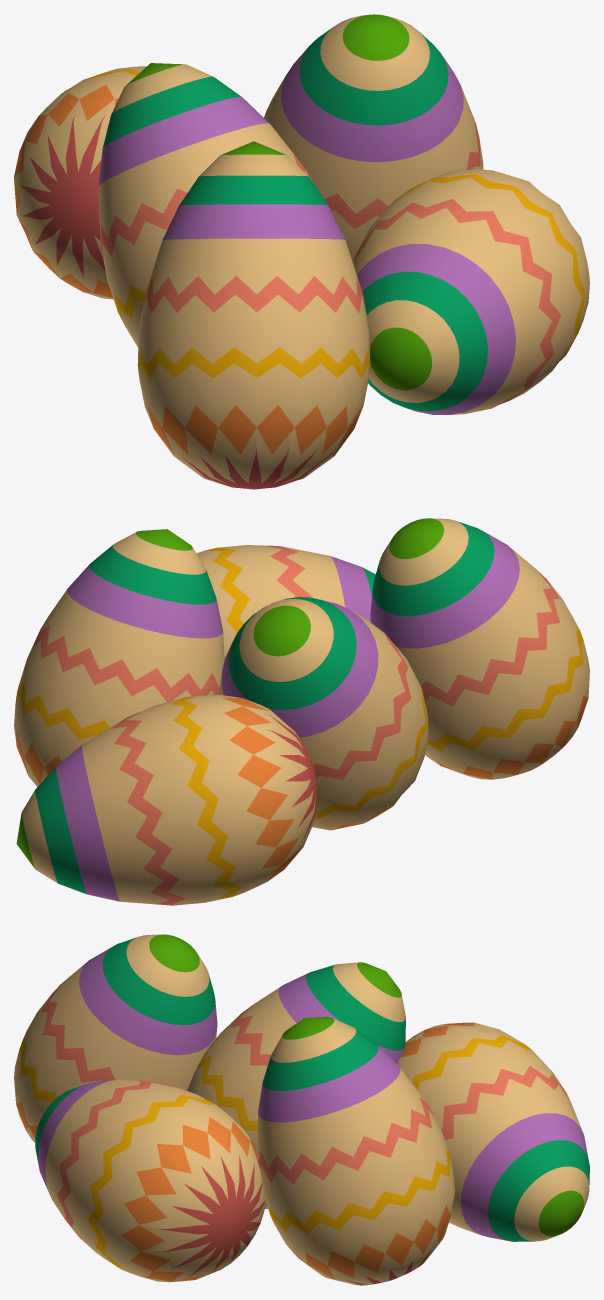
Rendered from Osterei muni.fbx.
3 views of the same model, one above another, from view 1: azimuth 30°, elevation 25°; view 2: azimuth 150°, elevation 25°; view 3: azimuth 270°, elevation 25° (orthographic). The views are drawn at different scales.
Parts seen in each view (by area): view 1: Osterei; view 2: Osterei; view 3: Osterei.
Boxes of the visible parts, box(x1,y1,x2,y2) form: Osterei: box(14, 14, 589, 489); Osterei: box(14, 518, 589, 905); Osterei: box(14, 934, 589, 1285).
Bounding box in the file's own units: 32.31 × 20.29 × 42.28.
